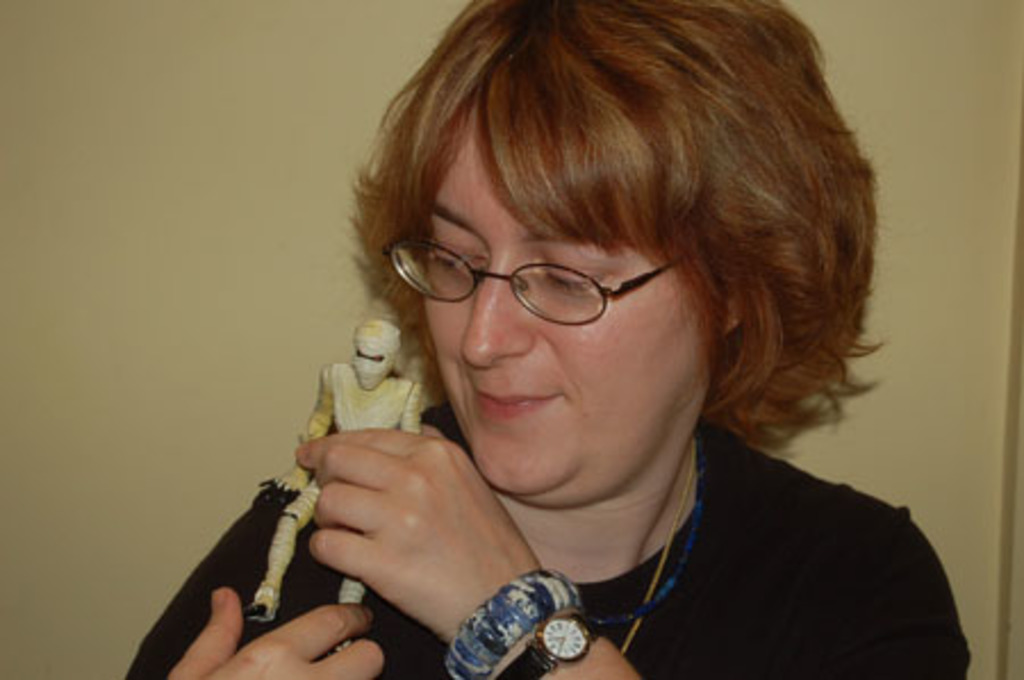watch: (484, 604, 614, 677)
